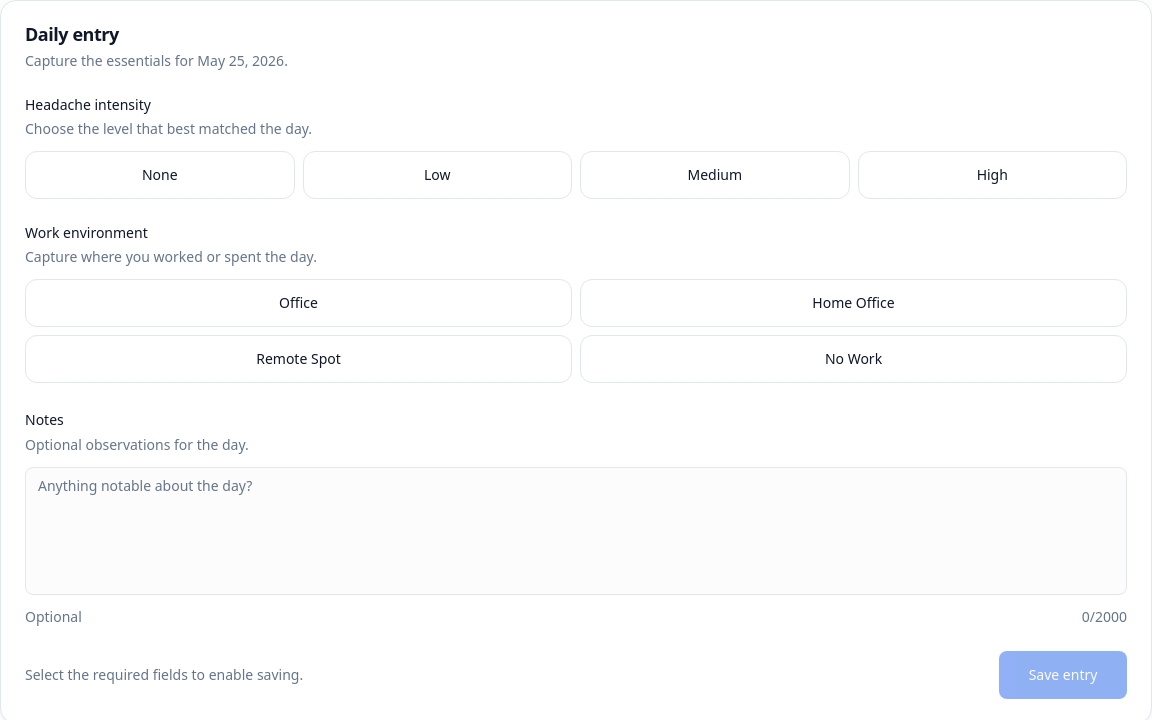
Scenario: EntryForm › keeps save disabled until required fields are selected
Expected: the button "Save entry" is disabled, [999,651,1127,699]
Click the radio button labelled "Low" at [437, 175], box [302,151,572,199]
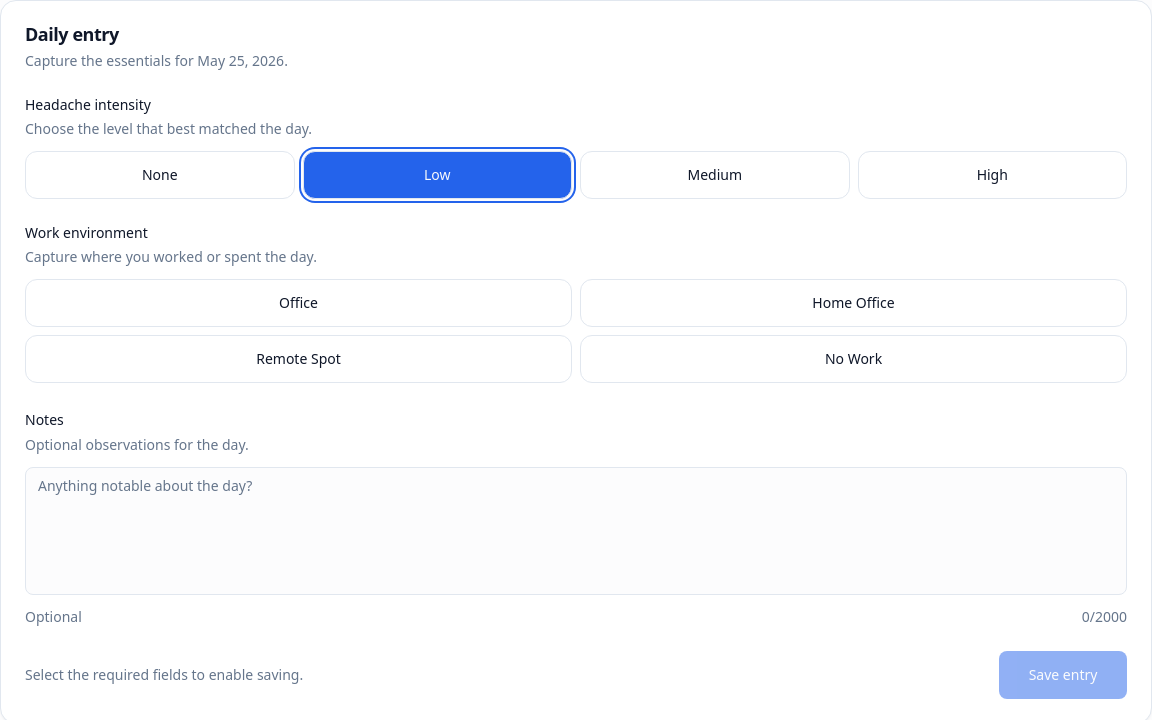
Expected: the button "Save entry" is disabled, [999,651,1127,699]
Click the radio button labelled "Office" at [298, 303], box [25,279,572,327]
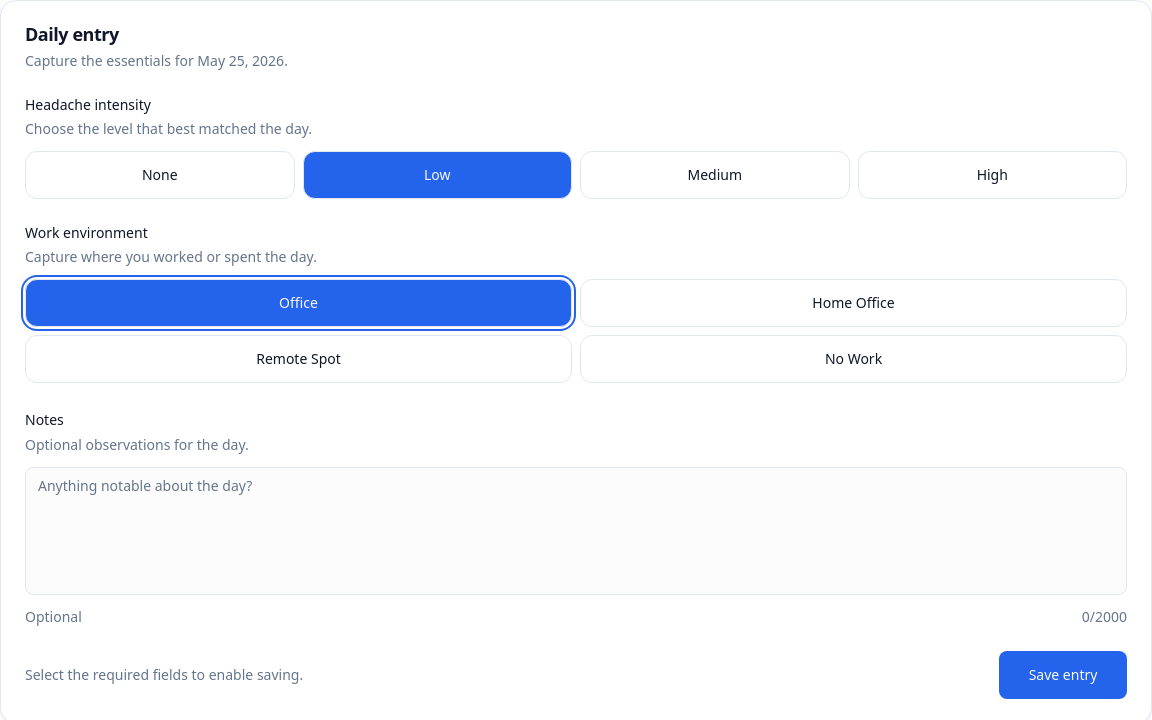
Now the button "Save entry" is enabled, box [999,651,1127,699]
